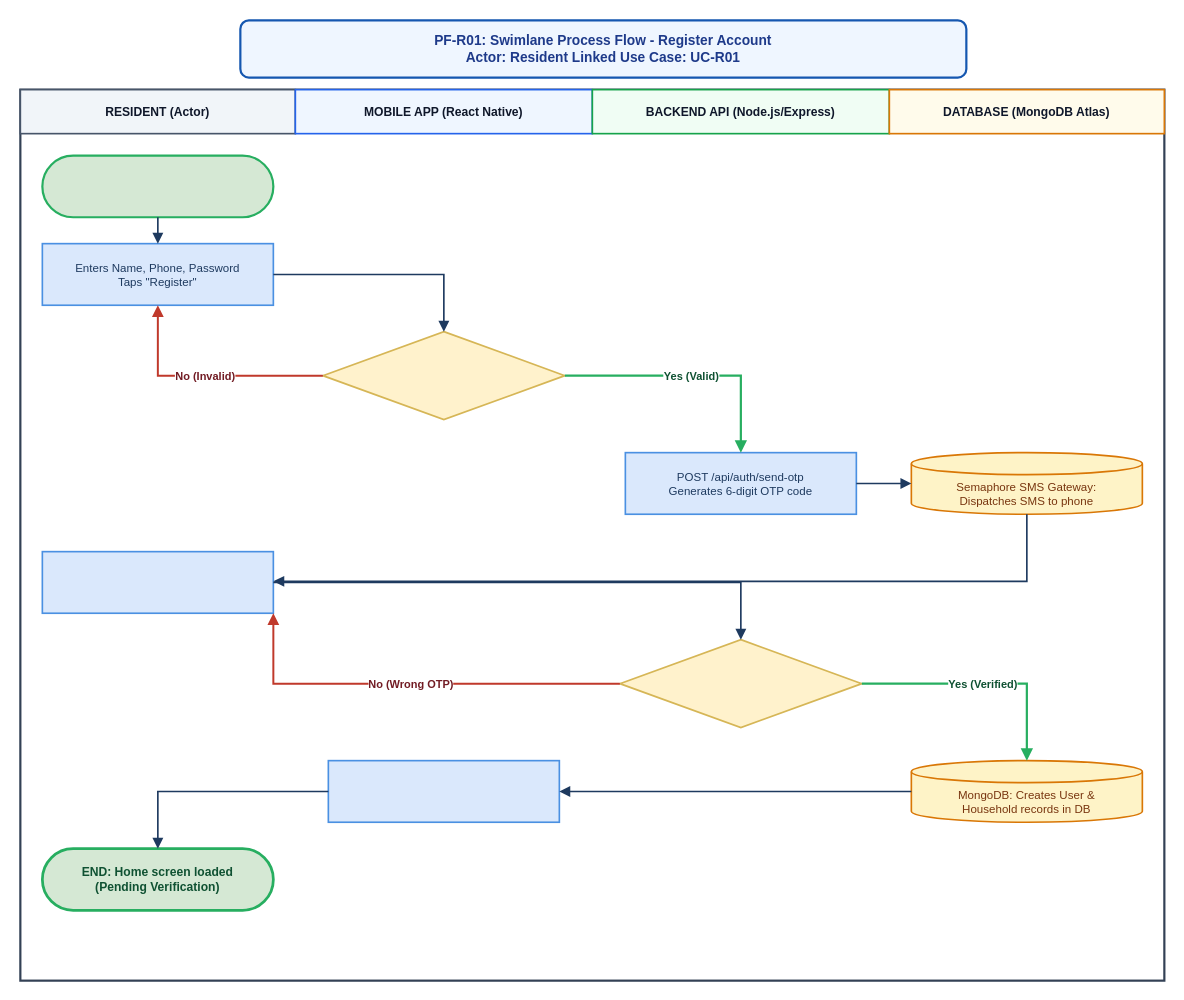
This 1184x1000 diagram has some shape labels left out. The box of each missing label's shape, as (x1, y1, x2, y2) in pixels:
Phone format valid & password >= 6 chars?: (322, 330, 565, 420)
POST /api/auth/register OTP verified & not expired?: (619, 638, 862, 728)
Receives SMS OTP on device; Enters 6-digit code in modal: (41, 550, 274, 614)
Saves JWT access token in device AsyncStorage: (327, 759, 560, 823)
START: Opens Mobile App: (41, 154, 274, 218)
